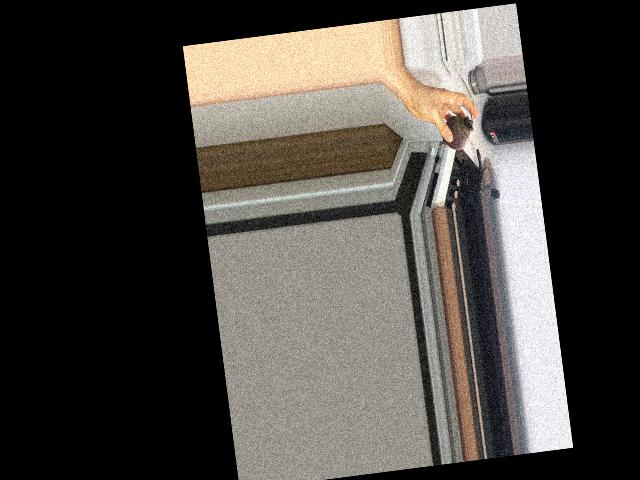beet: (433, 104, 475, 152)
